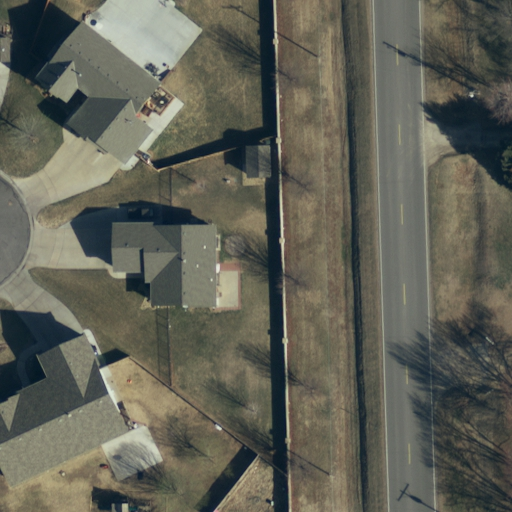DT: (310, 47, 328, 69)
